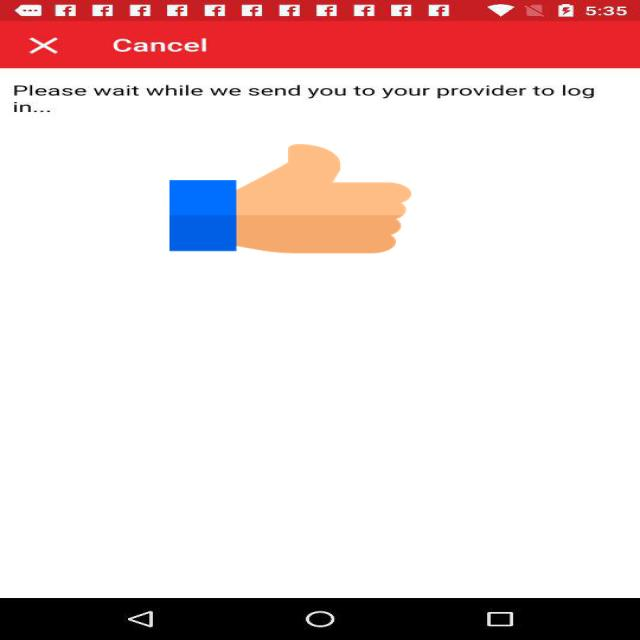privacy zuckering: (170, 141, 412, 256)
